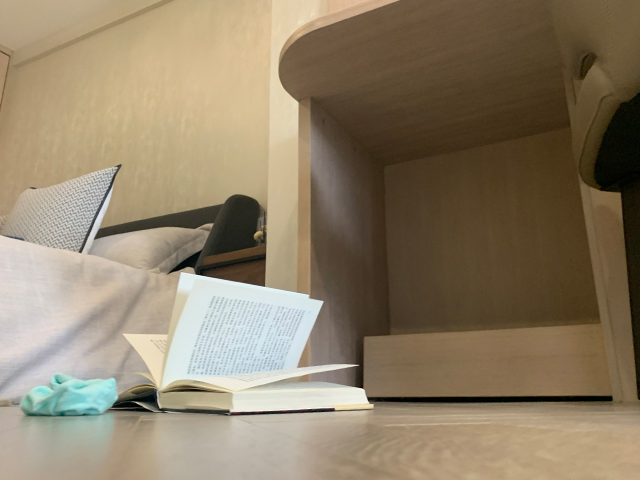bed: (1, 162, 264, 407)
book: (109, 270, 376, 417)
cabinet: (275, 1, 639, 407)
socks: (18, 371, 121, 419)
